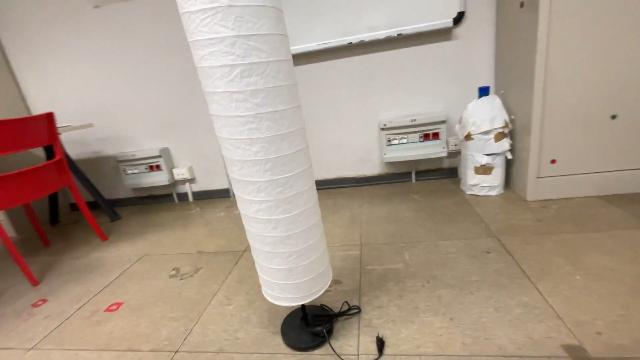Chair: (0, 110, 114, 290)
Lamp: (171, 0, 339, 360)
